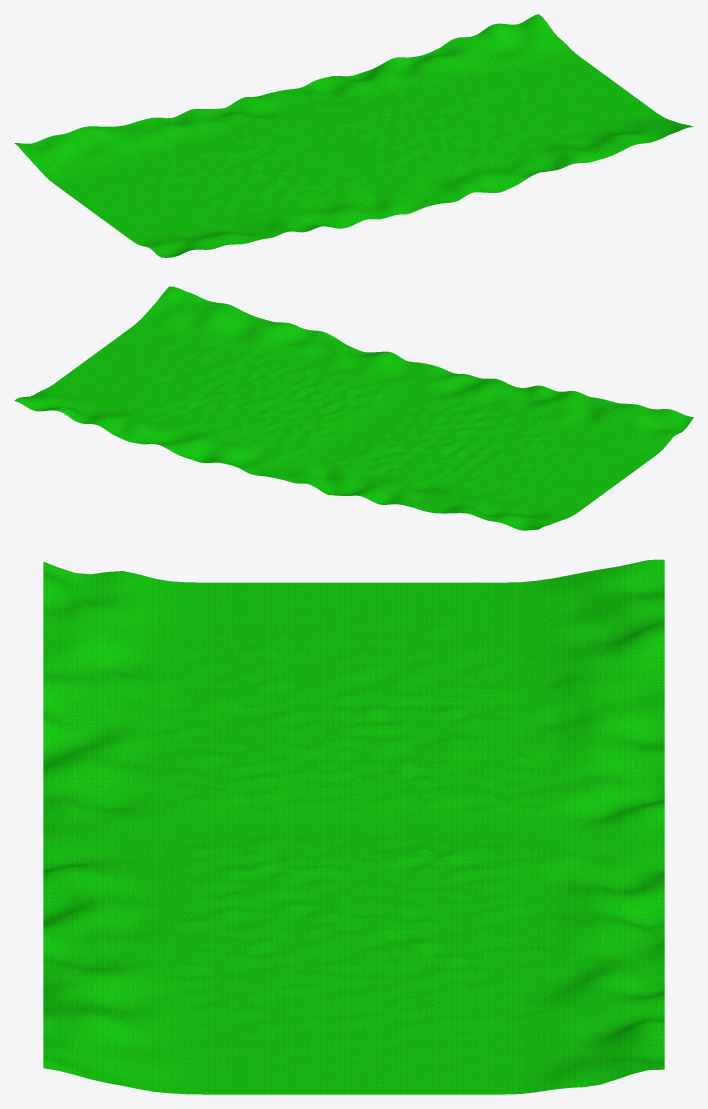
File: AITerrain_01_PLAINS.001.obj
3 views of the same model, one above another, from view 1: azimuth 30°, elevation 25°; view 2: azimuth 150°, elevation 25°; view 3: azimuth 270°, elevation 25° (orthographic). The views are drawn at different scales.
Visible parts, largest first — view 1: AITerrain_01_PLAINS.001; view 2: AITerrain_01_PLAINS.001; view 3: AITerrain_01_PLAINS.001.
Boxes of the visible parts, box(x1,y1,x2,y2) form: AITerrain_01_PLAINS.001: box(14, 14, 692, 257); AITerrain_01_PLAINS.001: box(14, 286, 693, 530); AITerrain_01_PLAINS.001: box(43, 559, 664, 1094).
Bounding box in the file's own units: 1950 × 72.27 × 1000.
Materials: 1 (1 with a texture image).
